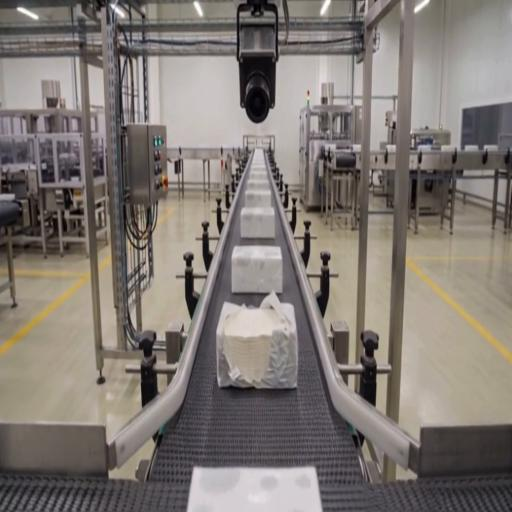defective: (215, 296, 296, 390), (189, 463, 321, 511)
good: (231, 245, 283, 295), (238, 206, 277, 242), (244, 189, 272, 211), (246, 169, 271, 188), (249, 149, 269, 163)
